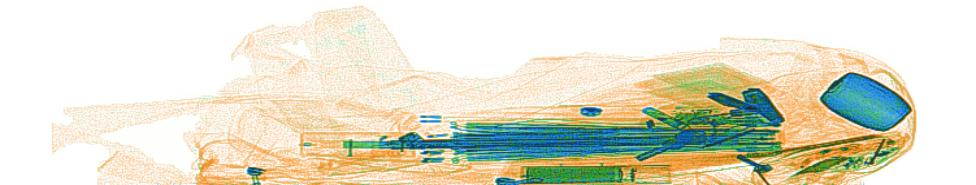battery: (519, 162, 624, 181)
